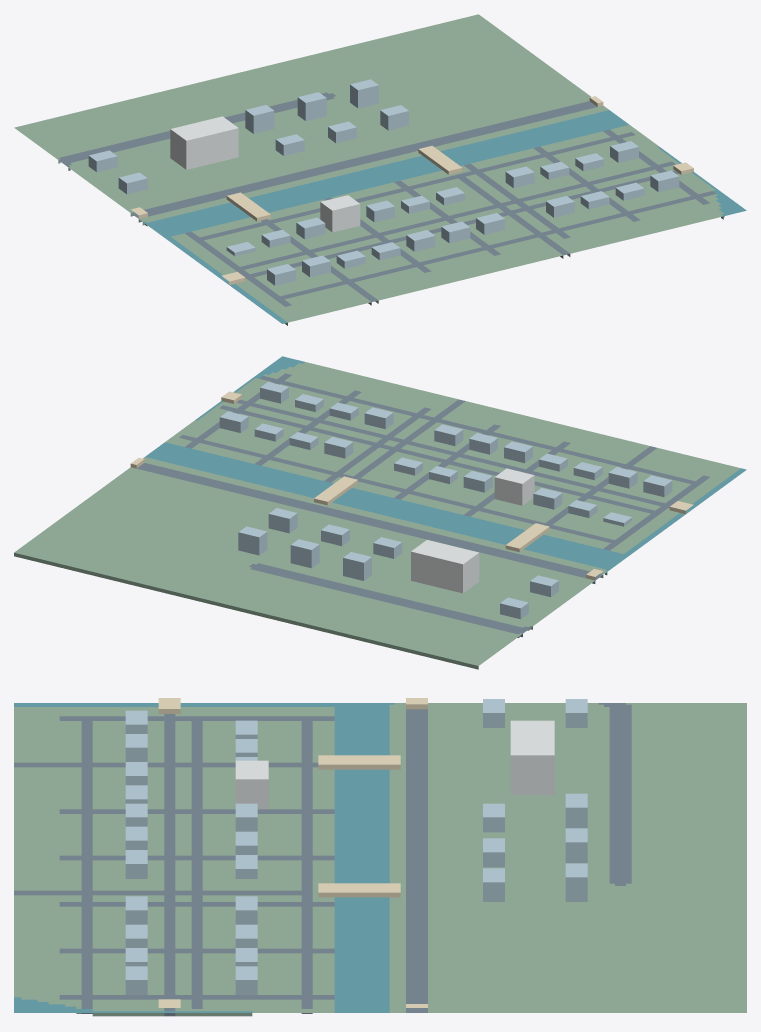
Rendered from sector-s.glb.
3 views of the same model, one above another, from view 1: azimuth 30°, elevation 25°; view 2: azimuth 150°, elevation 25°; view 3: azimuth 270°, elevation 25° (orthographic). The views are drawn at different scales.
Parts seen in each view (by area): view 1: material_1, material_2, material_4, material_3, material_5, material_6; view 2: material_1, material_2, material_4, material_3, material_5, material_6; view 3: material_1, material_2, material_3, material_4, material_5, material_6.
Boxes of the visible parts, bbox=[...] form: material_1: bbox=[14, 14, 724, 325]; material_2: bbox=[58, 92, 715, 306]; material_4: bbox=[88, 79, 679, 285]; material_3: bbox=[143, 110, 746, 323]; material_5: bbox=[170, 116, 360, 232]; material_6: bbox=[131, 96, 693, 284]; material_1: bbox=[14, 362, 740, 669]; material_2: bbox=[137, 373, 709, 637]; material_4: bbox=[219, 382, 672, 619]; material_3: bbox=[145, 356, 746, 575]; material_5: bbox=[411, 468, 534, 593]; material_6: bbox=[130, 391, 693, 580]; material_1: bbox=[14, 703, 746, 1016]; material_2: bbox=[14, 703, 631, 1016]; material_3: bbox=[14, 703, 394, 1012]; material_4: bbox=[125, 699, 587, 994]; material_5: bbox=[235, 720, 554, 809]; material_6: bbox=[158, 698, 427, 1007].
Size of the model in its own units: 1333 by 90 by 1333.
